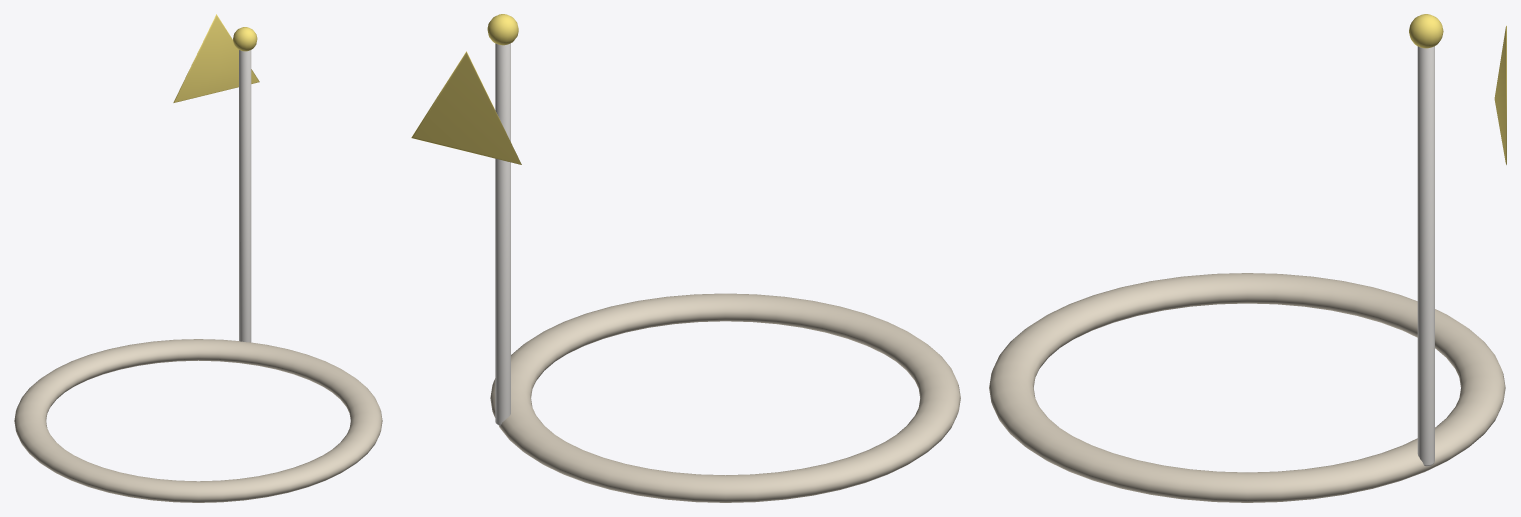
File: flag.glb
The picture shows the model from 3 angles, left to right: view 1: azimuth 30°, elevation 25°; view 2: azimuth 150°, elevation 25°; view 3: azimuth 270°, elevation 25°; orthographic projection. The views are drawn at different scales.
Parts seen in each view (by area): view 1: flag; view 2: flag; view 3: flag.
Boxes of the visible parts, left/top/right/bottom form: flag: left=14, top=14, right=382, bottom=502; flag: left=411, top=14, right=960, bottom=502; flag: left=989, top=14, right=1506, bottom=502.
Size of the model in its own units: 2.08 by 2.04 by 2.08.
